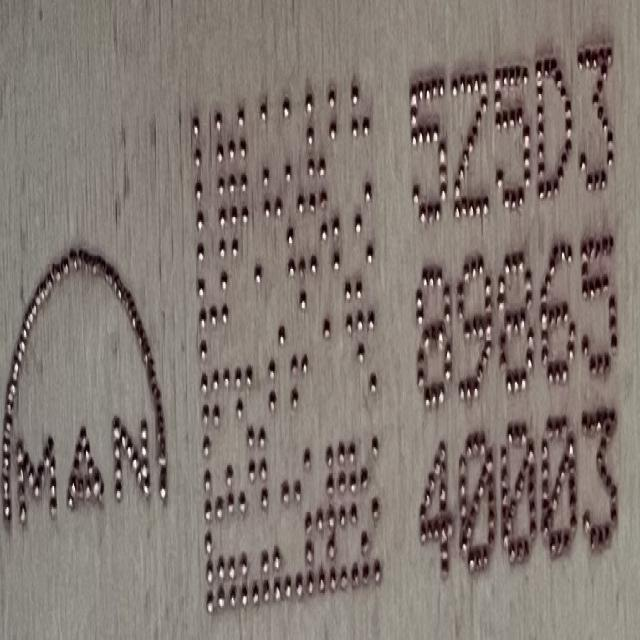dmc: (193, 83, 381, 614)
